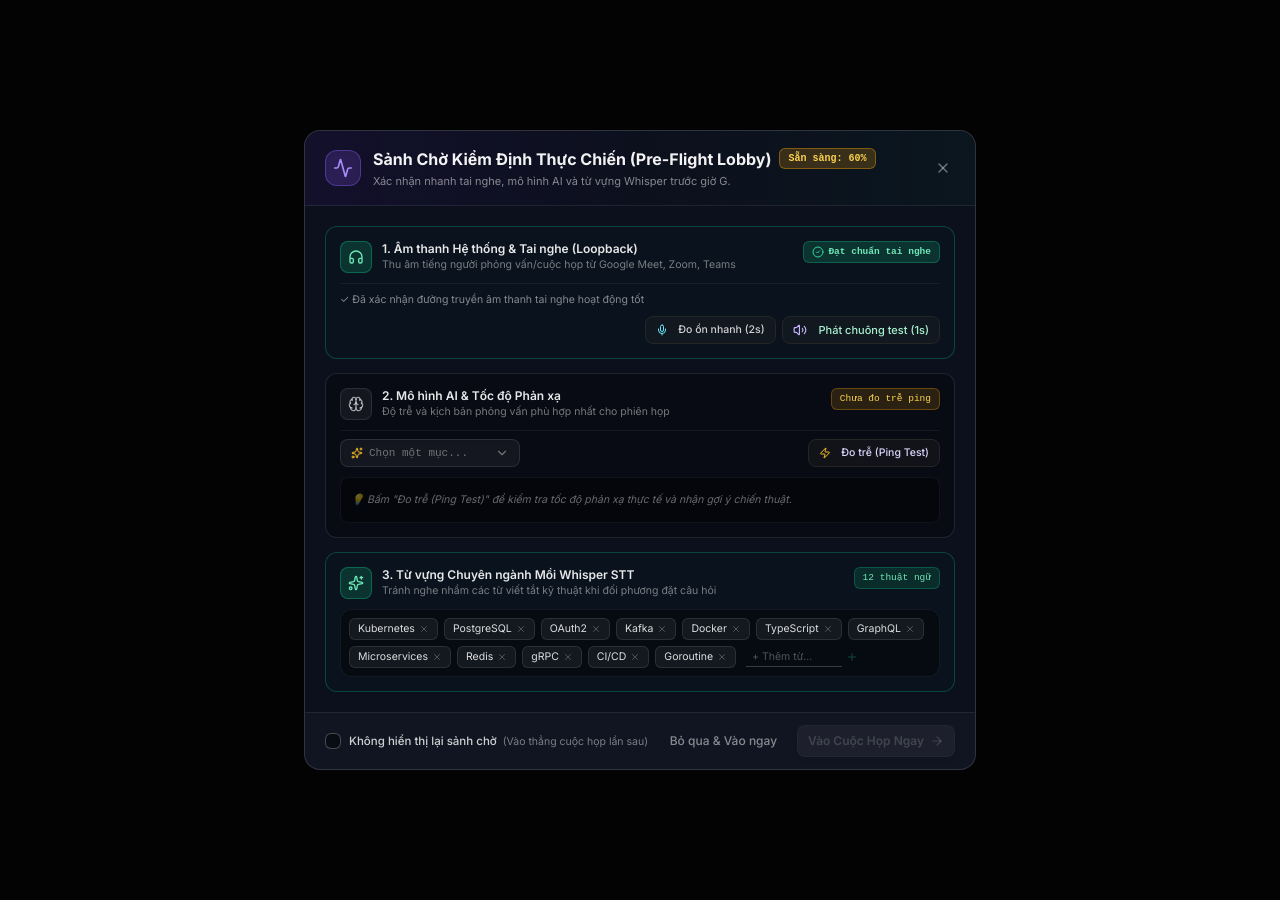
PreFlightLobbyModal Component › manages jargon keywords: adds new keyword and removes keyword
Type "RustLang" into the field with placeholder "+ Thêm từ..." at (794, 657), box [746, 647, 842, 667]
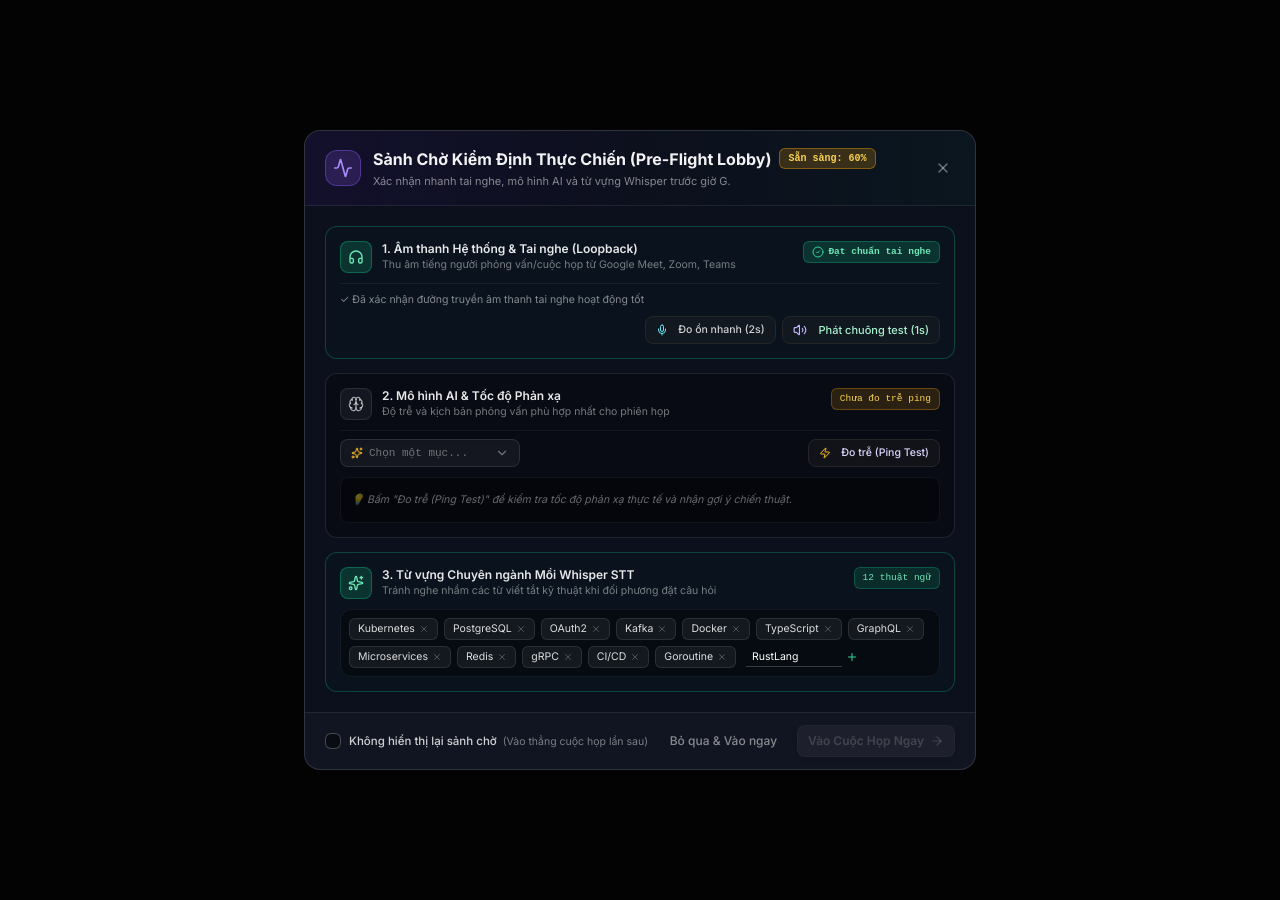
Click the submit button at (852, 657), box [846, 651, 858, 663]
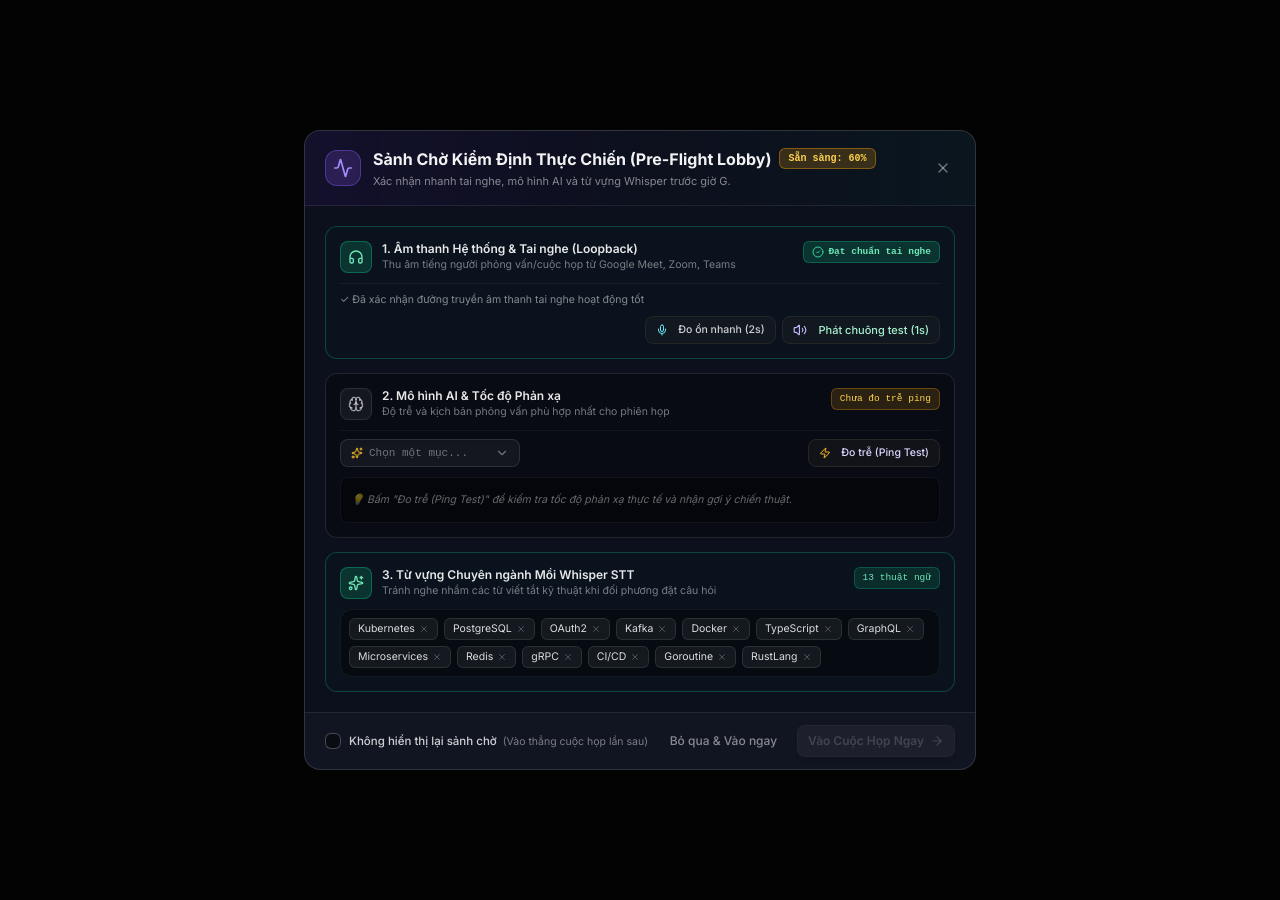
Expected: the text "RustLang" is shown, [751, 649, 798, 665]
Click the button titled "Xóa RustLang" at (806, 657), box [802, 652, 812, 662]
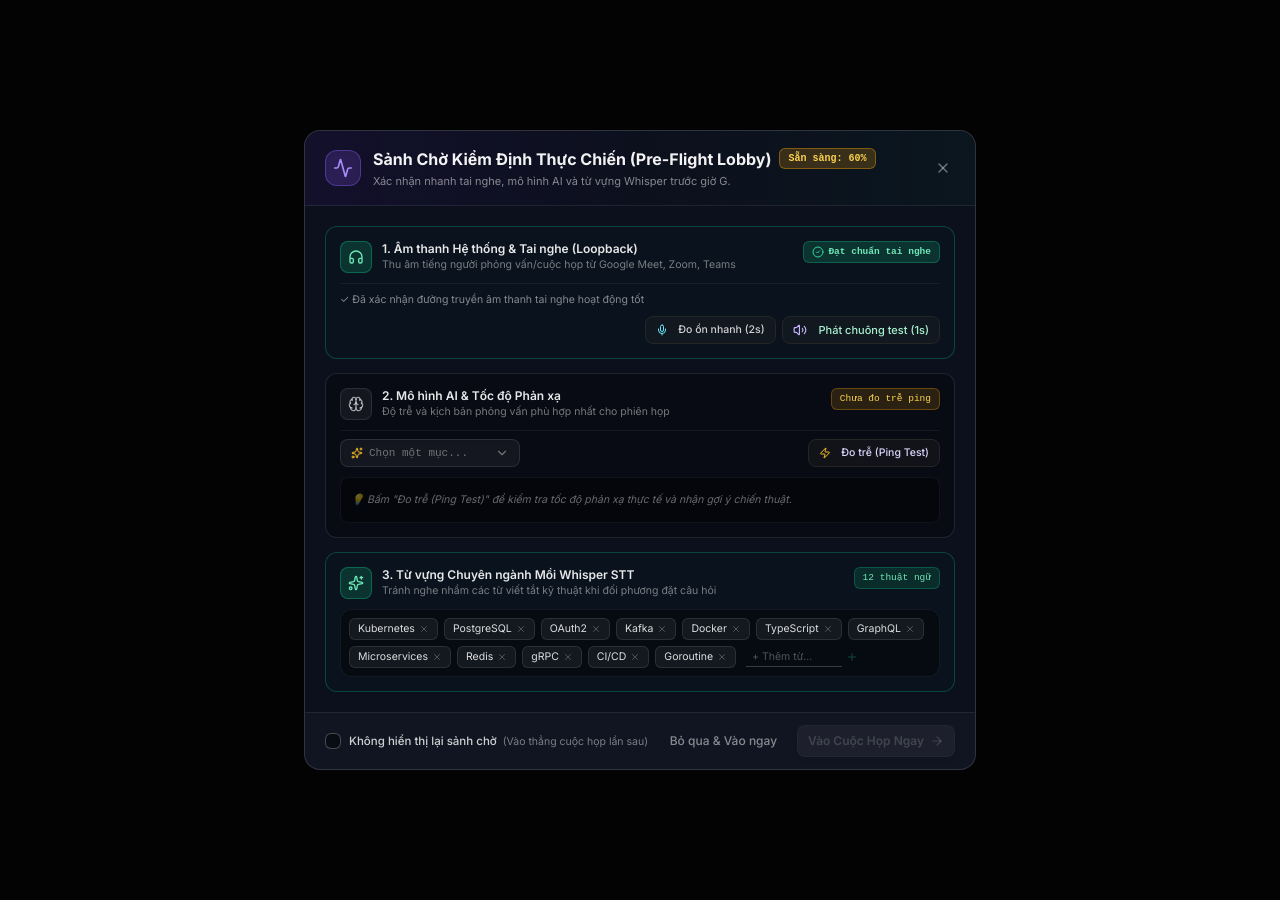
Expected: the text "RustLang" is gone
